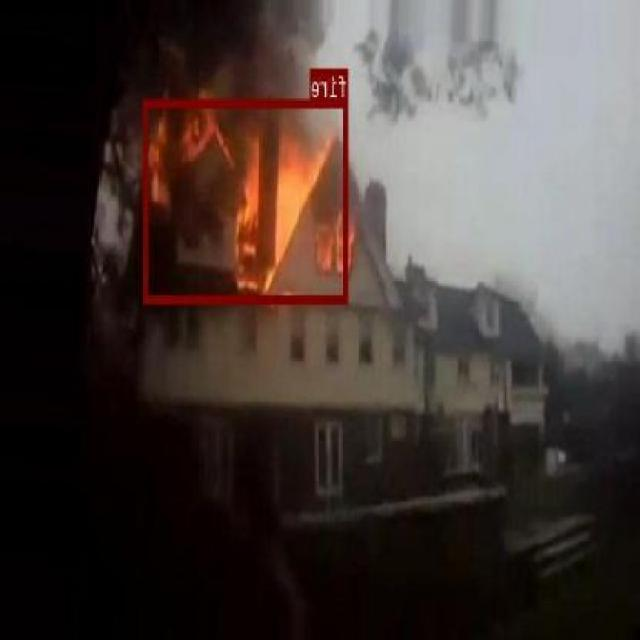Fire: (144, 98, 350, 302)
